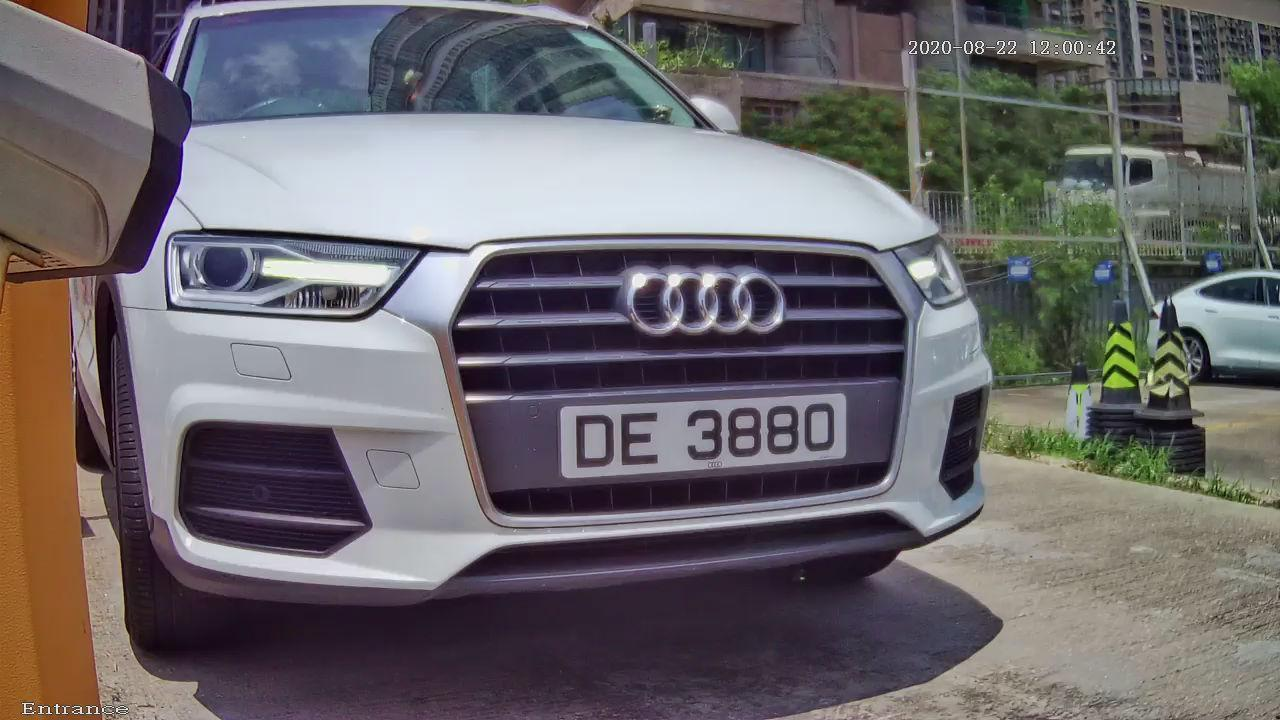Car: (35, 1, 1023, 685)
License Plate: (543, 386, 875, 486)
